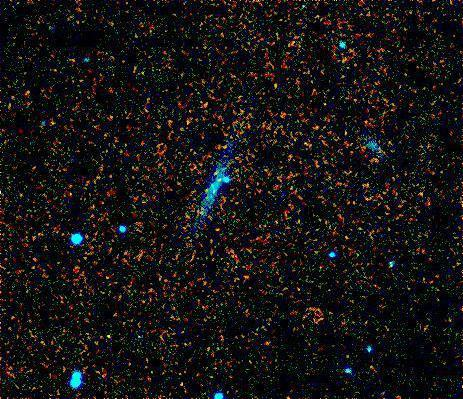star: (96, 323, 126, 353)
